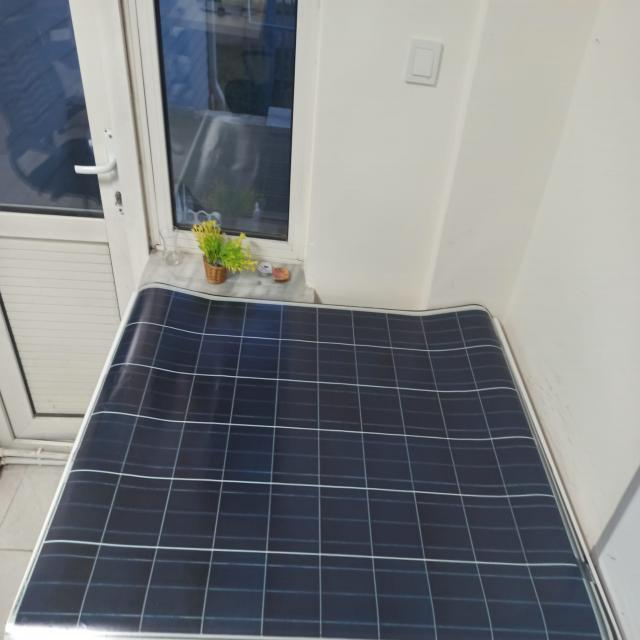no faulty: (6, 286, 622, 640)
